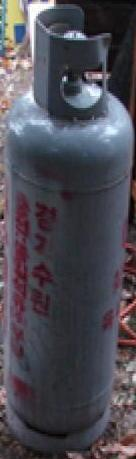cylinder: (1, 1, 136, 459)
